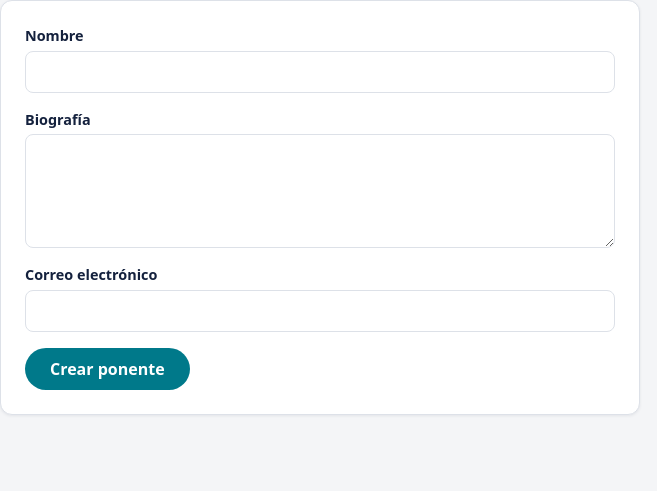
Test: SpeakerForm › falls back to a generic message when the rejection is not an error
The width and height of the screenshot is (657, 491).
In the field labelled "Nombre": (320, 72) [25,51,615,93], type "Grace Hopper"
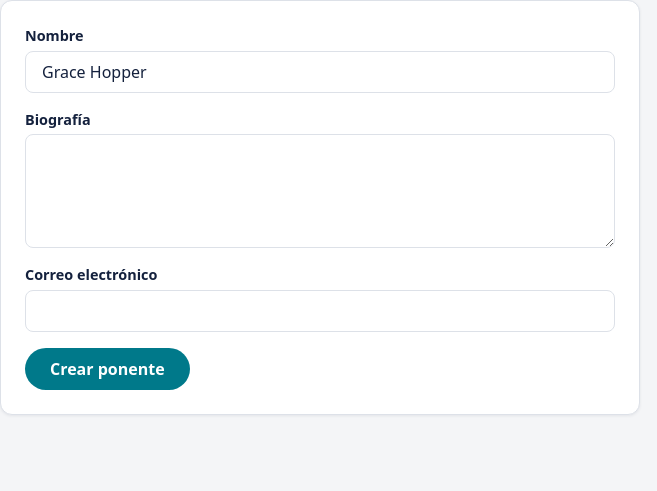
Click the button "Crear ponente": (107, 369) [25,348,190,390]
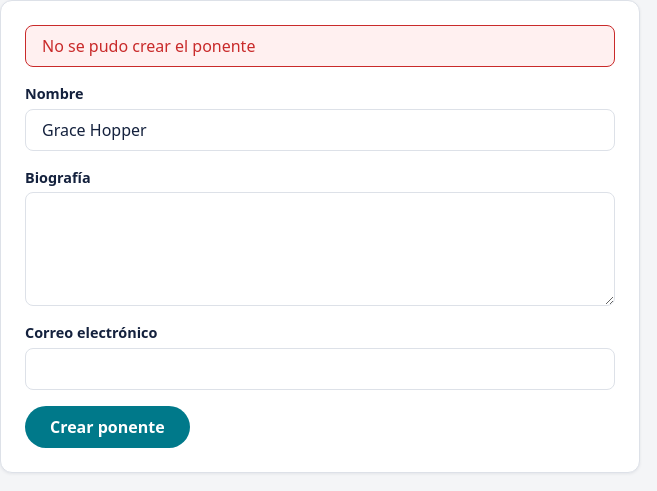
Expected: the message reads "No se pudo crear el ponente", [42,35,255,57]
